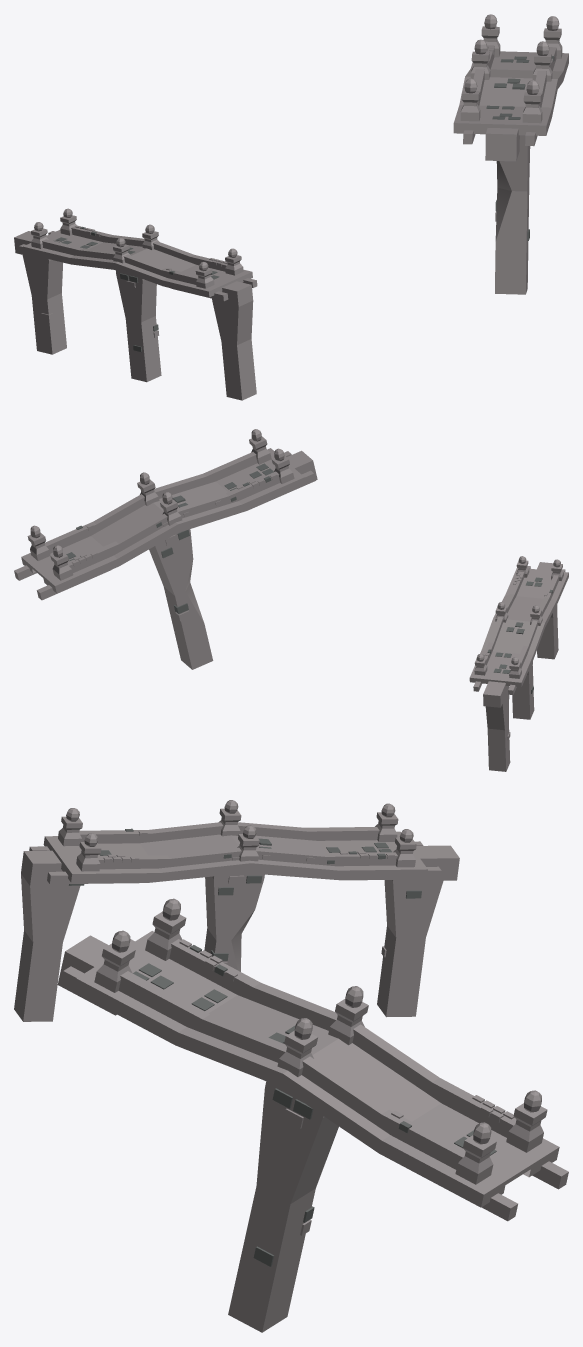
Rendered from Bridge.glb.
3 renders of one model, top to bottom at view 1: azimuth 30°, elevation 25°; view 2: azimuth 150°, elevation 25°; view 3: azimuth 270°, elevation 25°, orthographic. The views are drawn at different scales.
Visible parts, largest first — view 1: bridge; view 2: bridge; view 3: bridge.
Part boxes in pixels (x1=…): bridge: x1=14, y1=14, x2=568, y2=400; bridge: x1=14, y1=429, x2=568, y2=771; bridge: x1=14, y1=800, x2=568, y2=1332.
Size of what is drawn, in the model's own units: 86.41 by 36.41 by 49.38.
1 material, 1 textured.
